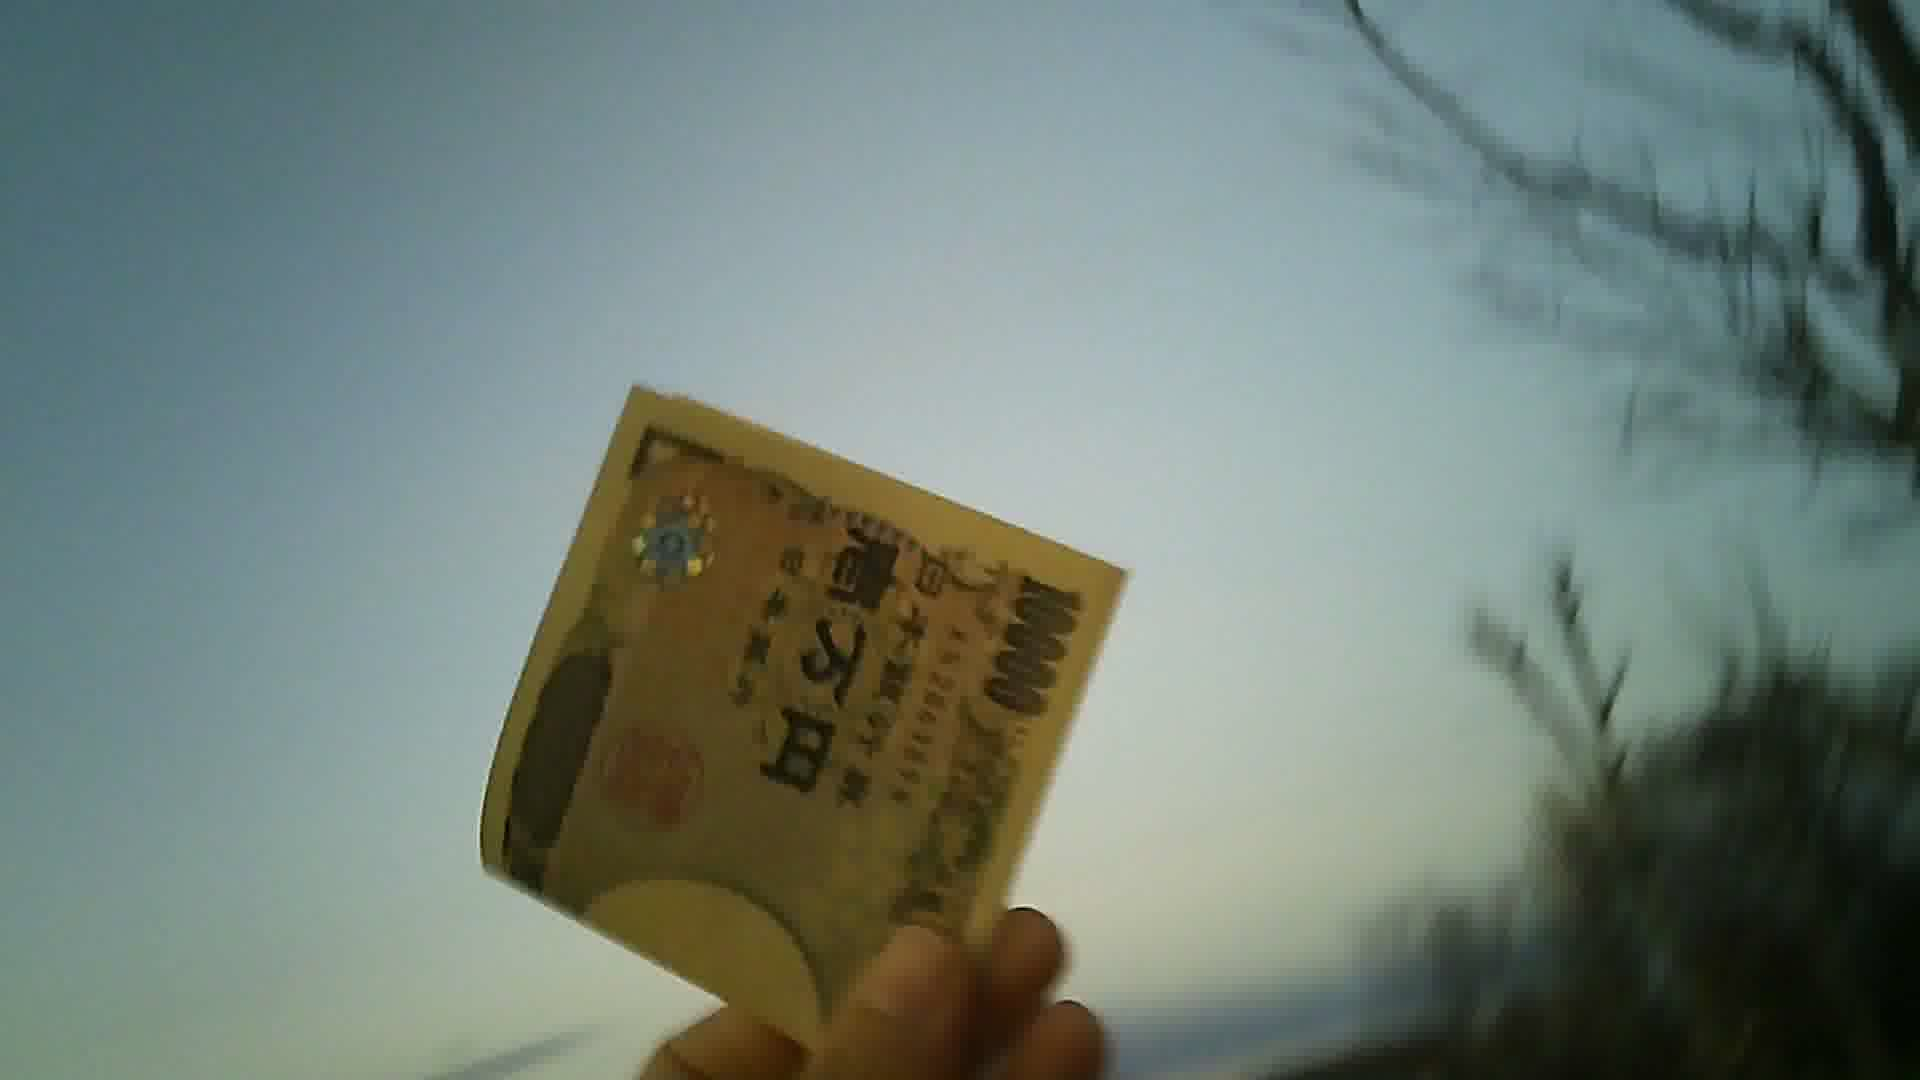10,000 Yen: (442, 376, 1138, 1077)
